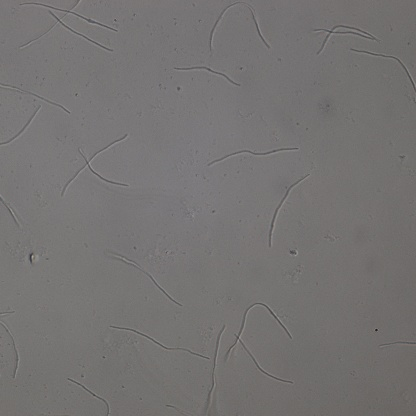Sensitive: (226, 299, 293, 386), (19, 1, 117, 53), (61, 133, 130, 196), (108, 249, 182, 306), (110, 324, 209, 359), (351, 48, 416, 96), (268, 173, 310, 247), (208, 1, 271, 50), (209, 140, 298, 168), (313, 21, 379, 57), (1, 82, 68, 112), (204, 326, 224, 416), (1, 107, 40, 149), (68, 379, 109, 416), (173, 66, 241, 87), (1, 318, 20, 378)
